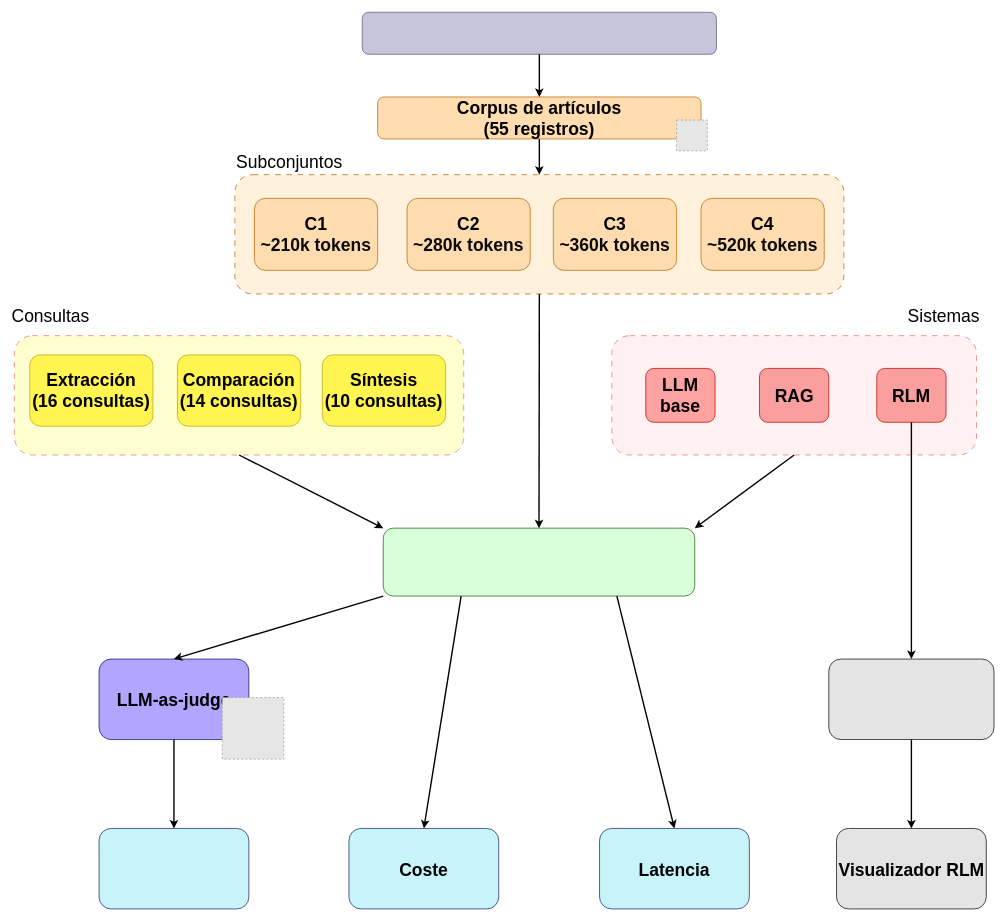
Some shapes in this 1007 by 921 pixel diagram are drawn without their labels. Grey dashed boxes stand in for pictures. The shapes that lost their labels are listed below. From the top down, each one's box as (x1, y1, x2, y2) in pixels, then its label:
(362, 12, 716, 54): Revisión Sistemática de Literatura
(383, 527, 695, 596): Pipeline de experimentación
(828, 658, 994, 740): Trayectorias RLM
(98, 828, 249, 909): Precisión
